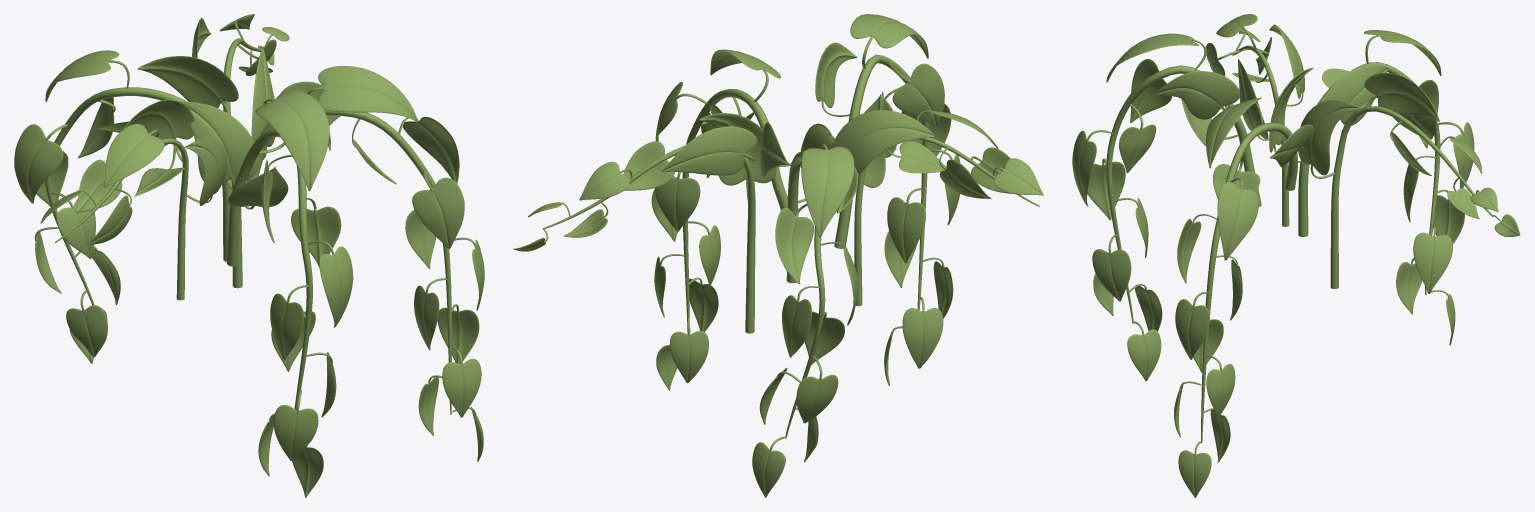
Rendered from hanging_leaves.glb.
3 views of the same model, side by side, from view 1: azimuth 30°, elevation 25°; view 2: azimuth 150°, elevation 25°; view 3: azimuth 270°, elevation 25° (orthographic). The views are drawn at different scales.
Visible parts, largest first — view 1: Plane.050; view 2: Plane.050; view 3: Plane.050.
Part boxes in pixels (x1,y1,x2,y2): Plane.050: (14,14,484,497); Plane.050: (513,14,1043,497); Plane.050: (1072,14,1520,497).
Bounding box in the file's own units: 22.01 × 20.91 × 22.68.
